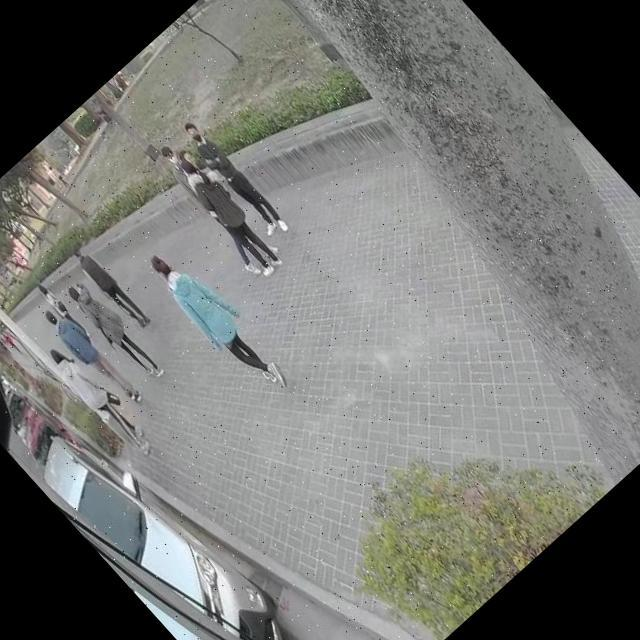person: (136, 232, 298, 404), (42, 334, 161, 462), (177, 116, 286, 235), (179, 160, 287, 276), (41, 296, 148, 411), (62, 274, 166, 384), (68, 241, 154, 332), (156, 142, 202, 192), (34, 280, 75, 324), (41, 156, 73, 190), (178, 147, 200, 171)
